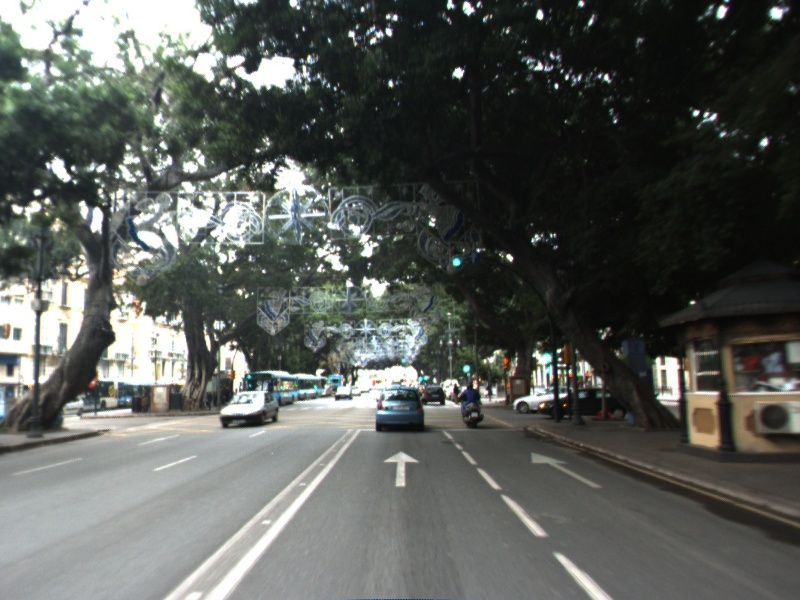STRAIGHT: (529, 450, 605, 490), (381, 449, 422, 489)
